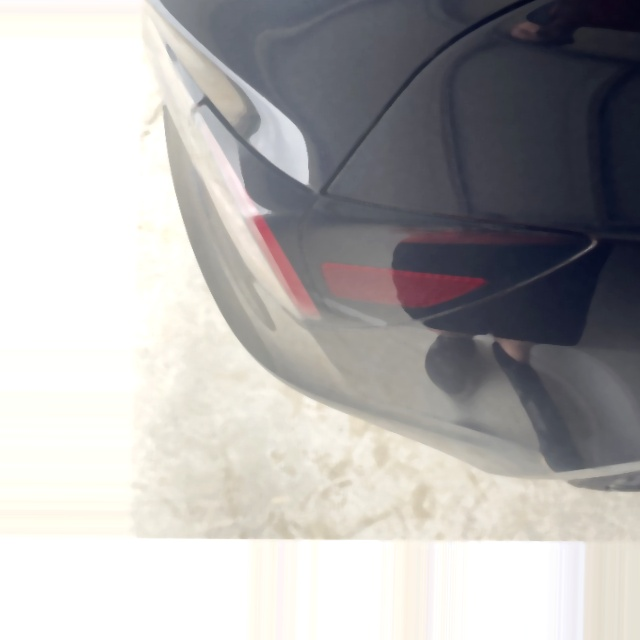reflector: (318, 263, 488, 308)
